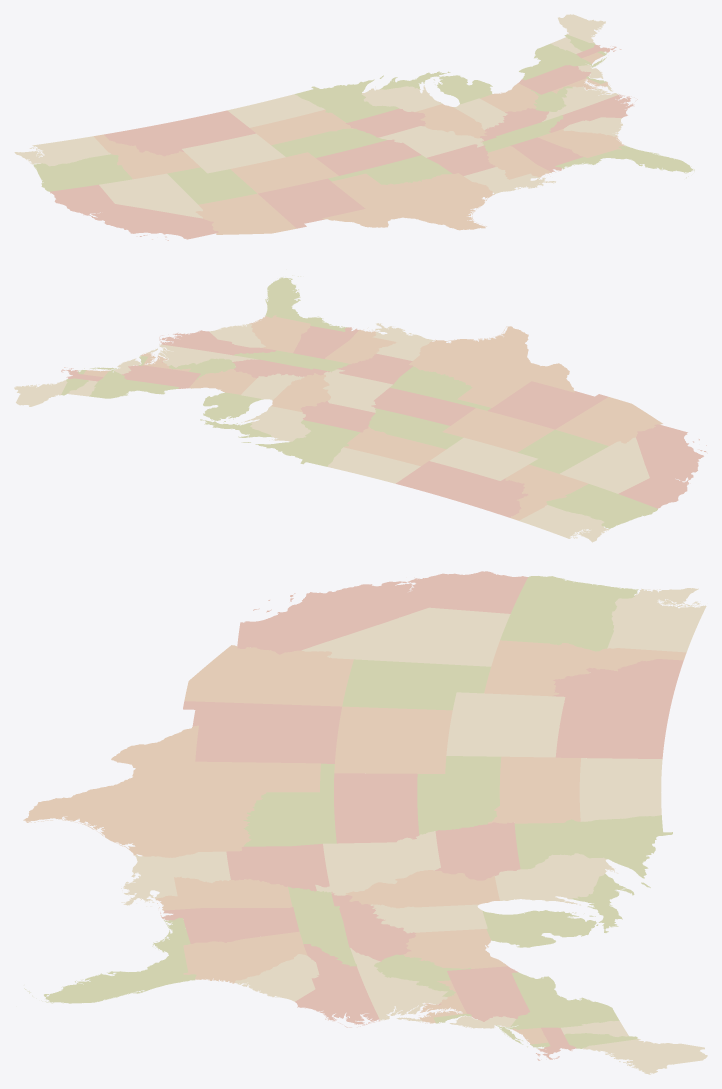
Rendered from states.fbx.
3 views of the same model, one above another, from view 1: azimuth 30°, elevation 25°; view 2: azimuth 150°, elevation 25°; view 3: azimuth 270°, elevation 25° (orthographic). The views are drawn at different scales.
Parts seen in each view (by area): view 1: path74, path378, path210, path154, path386, path146, path370, path18, path122, path234, path66, path314 (+28 smaller); view 2: path74, path378, path210, path154, path386, path146, path370, path18, path122, path66, path234, path314 (+28 smaller); view 3: path74, path378, path210, path154, path386, path146, path370, path18, path122, path66, path234, path314 (+29 smaller).
Boxes of the visible parts, x1,y1,x2,y2 form: path74: (322, 173, 494, 230); path378: (50, 184, 218, 240); path210: (104, 110, 255, 156); path154: (258, 178, 365, 228); path386: (195, 193, 296, 234); path146: (99, 173, 202, 218); path370: (230, 152, 338, 193); path18: (182, 133, 285, 173); path122: (32, 154, 132, 191); path234: (294, 79, 398, 122); path66: (167, 167, 256, 204); path314: (93, 134, 200, 179); path74: (409, 326, 574, 407); path378: (618, 424, 707, 508); path210: (396, 461, 528, 517); path154: (487, 381, 608, 429); path386: (555, 397, 662, 445); path146: (560, 437, 649, 493); path370: (442, 408, 554, 452); path18: (430, 437, 537, 480); path122: (546, 484, 657, 529); path66: (518, 429, 608, 473); path234: (255, 420, 360, 466); path314: (505, 464, 588, 520); path74: (23, 725, 320, 857); path378: (237, 571, 527, 654); path210: (552, 659, 683, 758); path154: (183, 701, 341, 763); path386: (184, 645, 353, 706); path146: (301, 607, 510, 666); path370: (334, 706, 452, 773); path18: (446, 692, 565, 757); path122: (500, 576, 638, 651); path66: (342, 659, 490, 710); path234: (514, 815, 672, 878); path314: (484, 640, 686, 696).
Bounding box in the file's own units: 23.35 × 5.95e-07 × 13.61.
